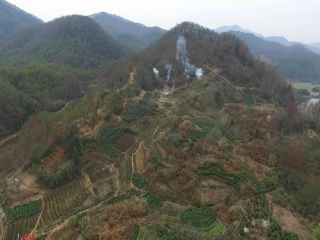smoke: (150, 34, 204, 90)
